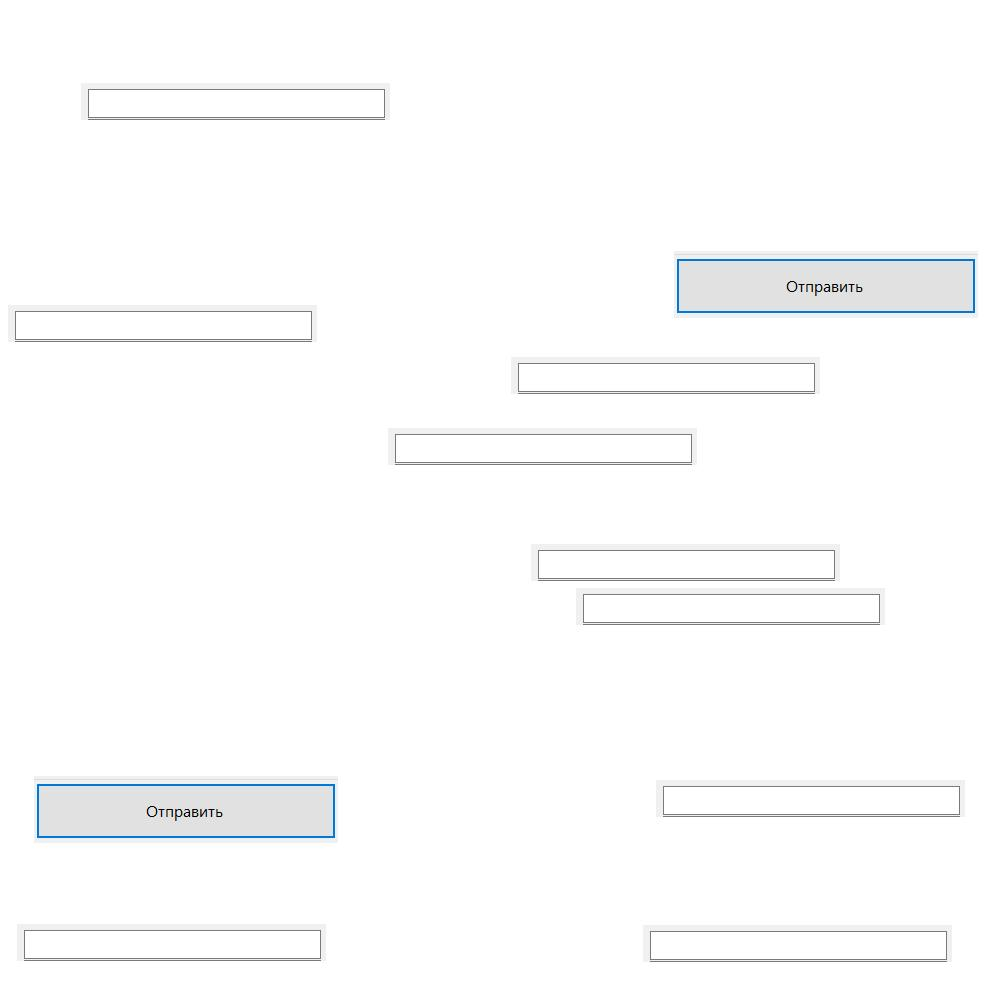Button: (34, 776, 338, 843), (674, 251, 978, 318)
EditText-: (388, 428, 697, 465), (643, 925, 952, 962), (81, 83, 390, 120), (531, 544, 840, 581), (511, 357, 820, 394), (656, 780, 965, 817), (8, 305, 317, 342), (576, 588, 885, 625), (17, 924, 326, 961)
